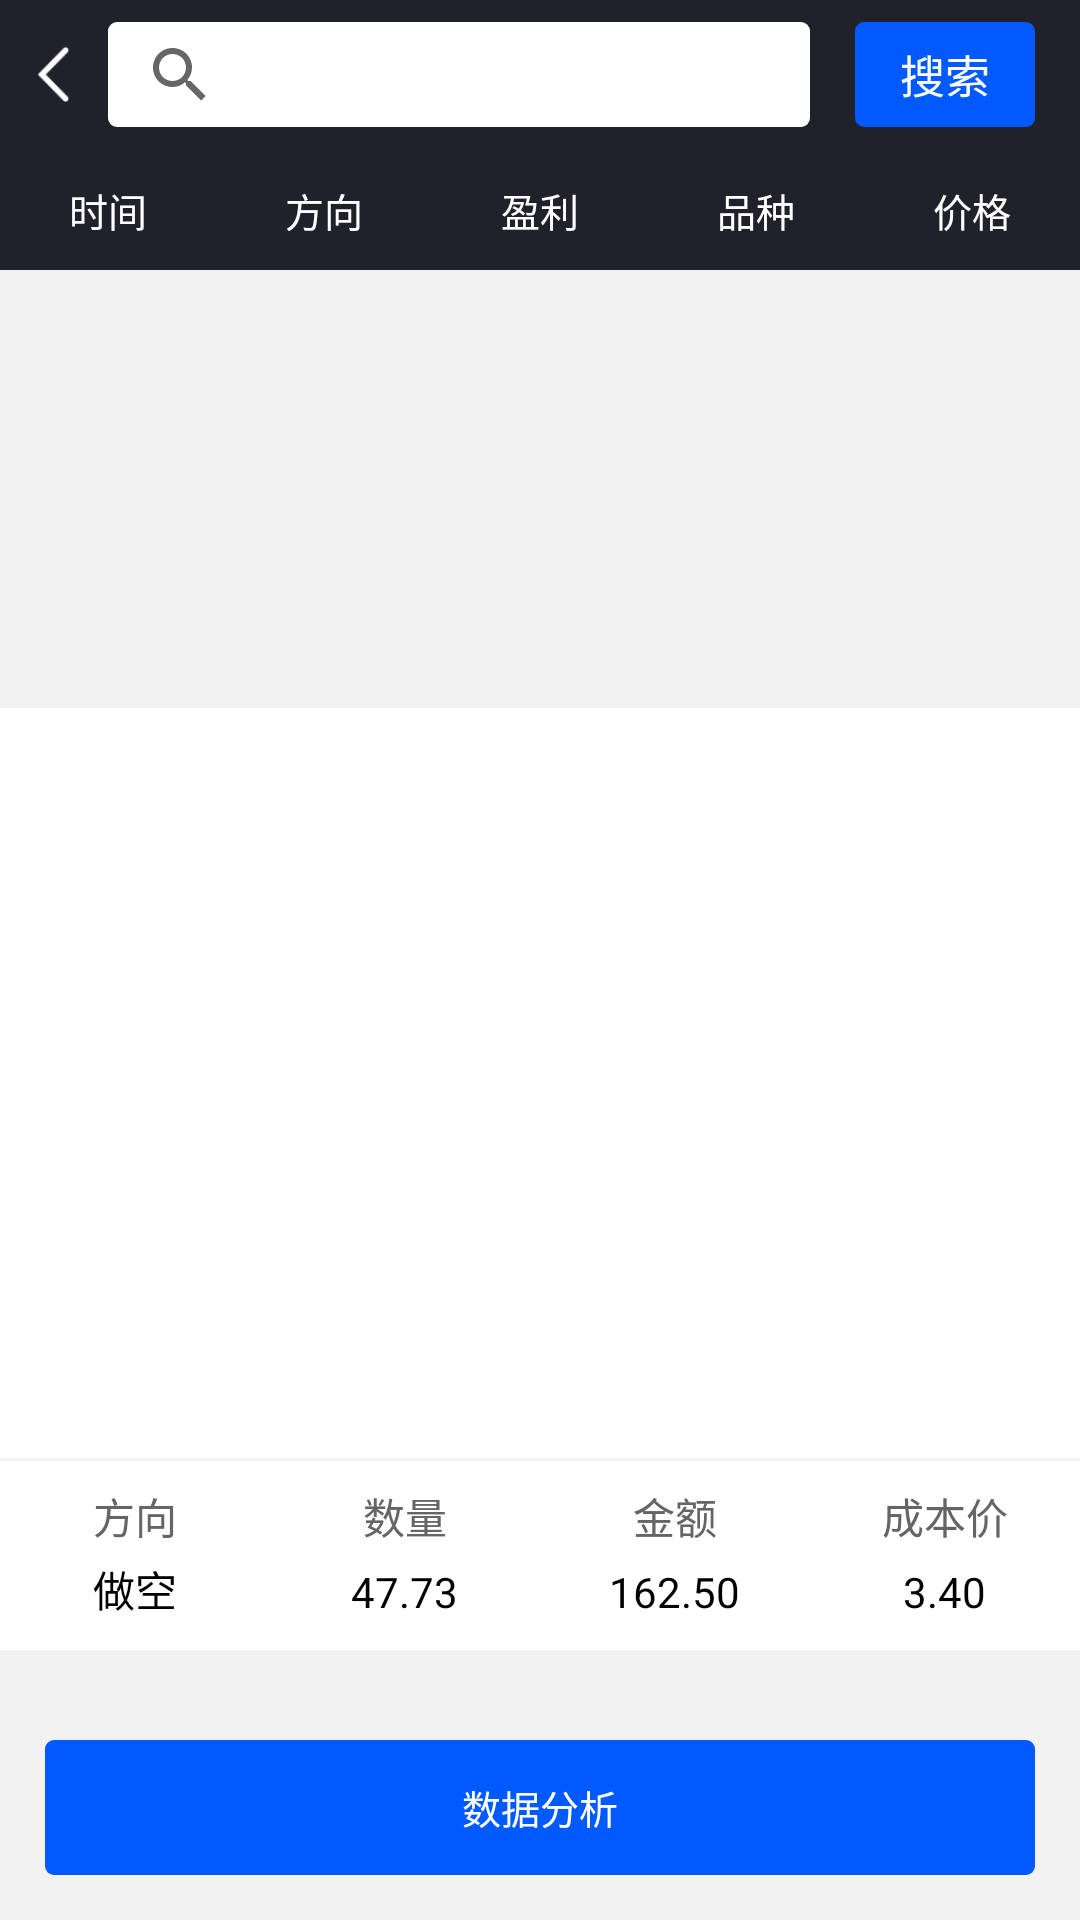

Where icons sit on this 1080*1920 app screen, as (x1=x1, y1=y1, x2=x2, y2=y2):
back: (x1=38, y1=47, x2=69, y2=102)
